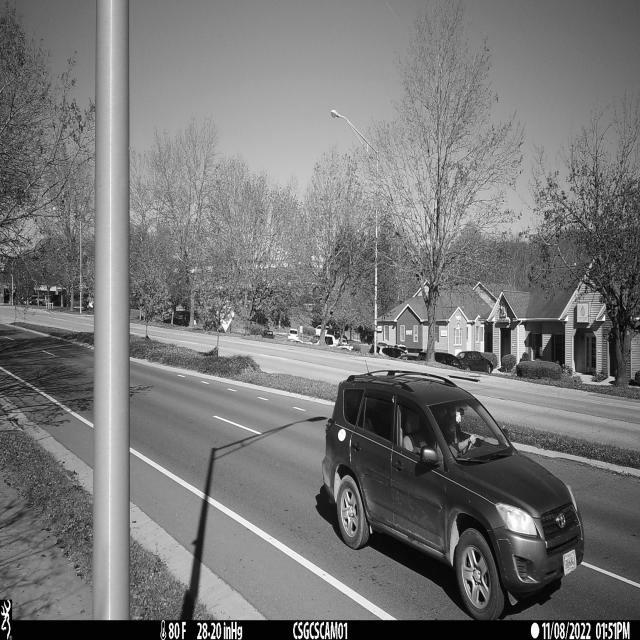SUV: (322, 367, 585, 620)
